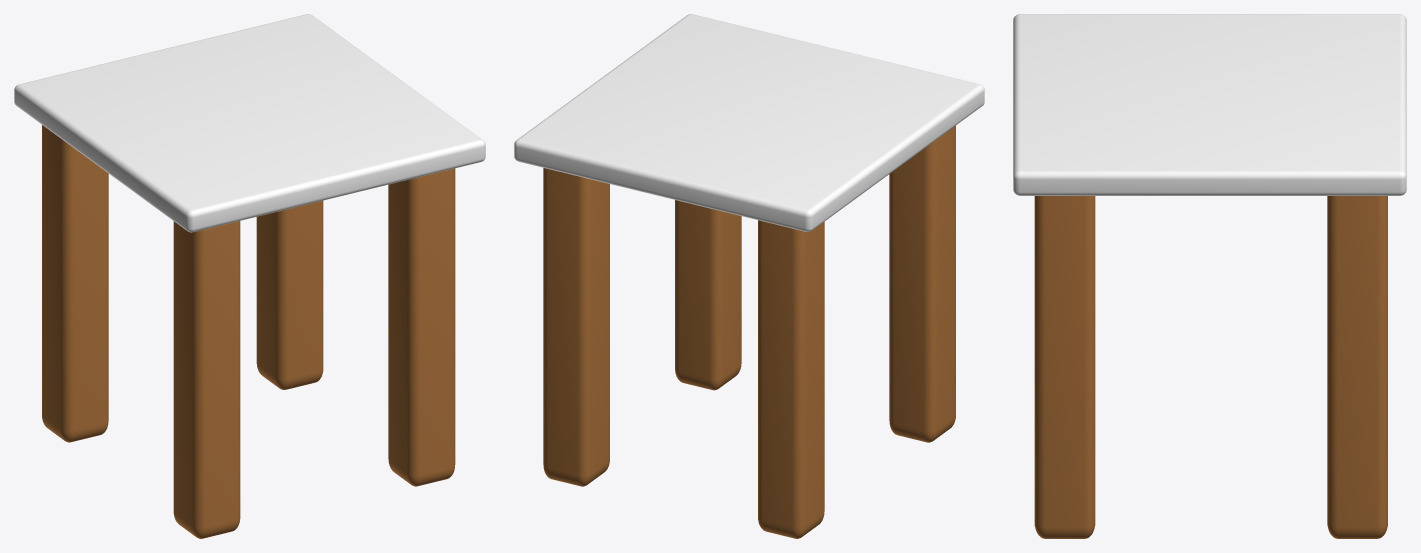
Rendered from simple_square_table_A.obj.
3 views of the same model, side by side, from view 1: azimuth 30°, elevation 25°; view 2: azimuth 150°, elevation 25°; view 3: azimuth 270°, elevation 25° (orthographic). The views are drawn at different scales.
Parts seen in each view (by area): view 1: simple_square_table_A; view 2: simple_square_table_A; view 3: simple_square_table_A.
Part boxes in pixels (x1,y1,x2,y2): simple_square_table_A: [14, 14, 485, 538]; simple_square_table_A: [514, 14, 984, 538]; simple_square_table_A: [1013, 14, 1406, 538].
Bounding box in the file's own units: 0.78 × 0.8529 × 0.8008.
